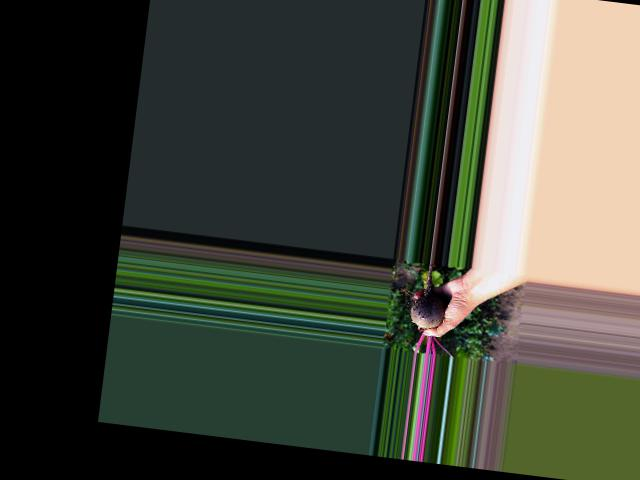beet: (391, 259, 464, 357)
